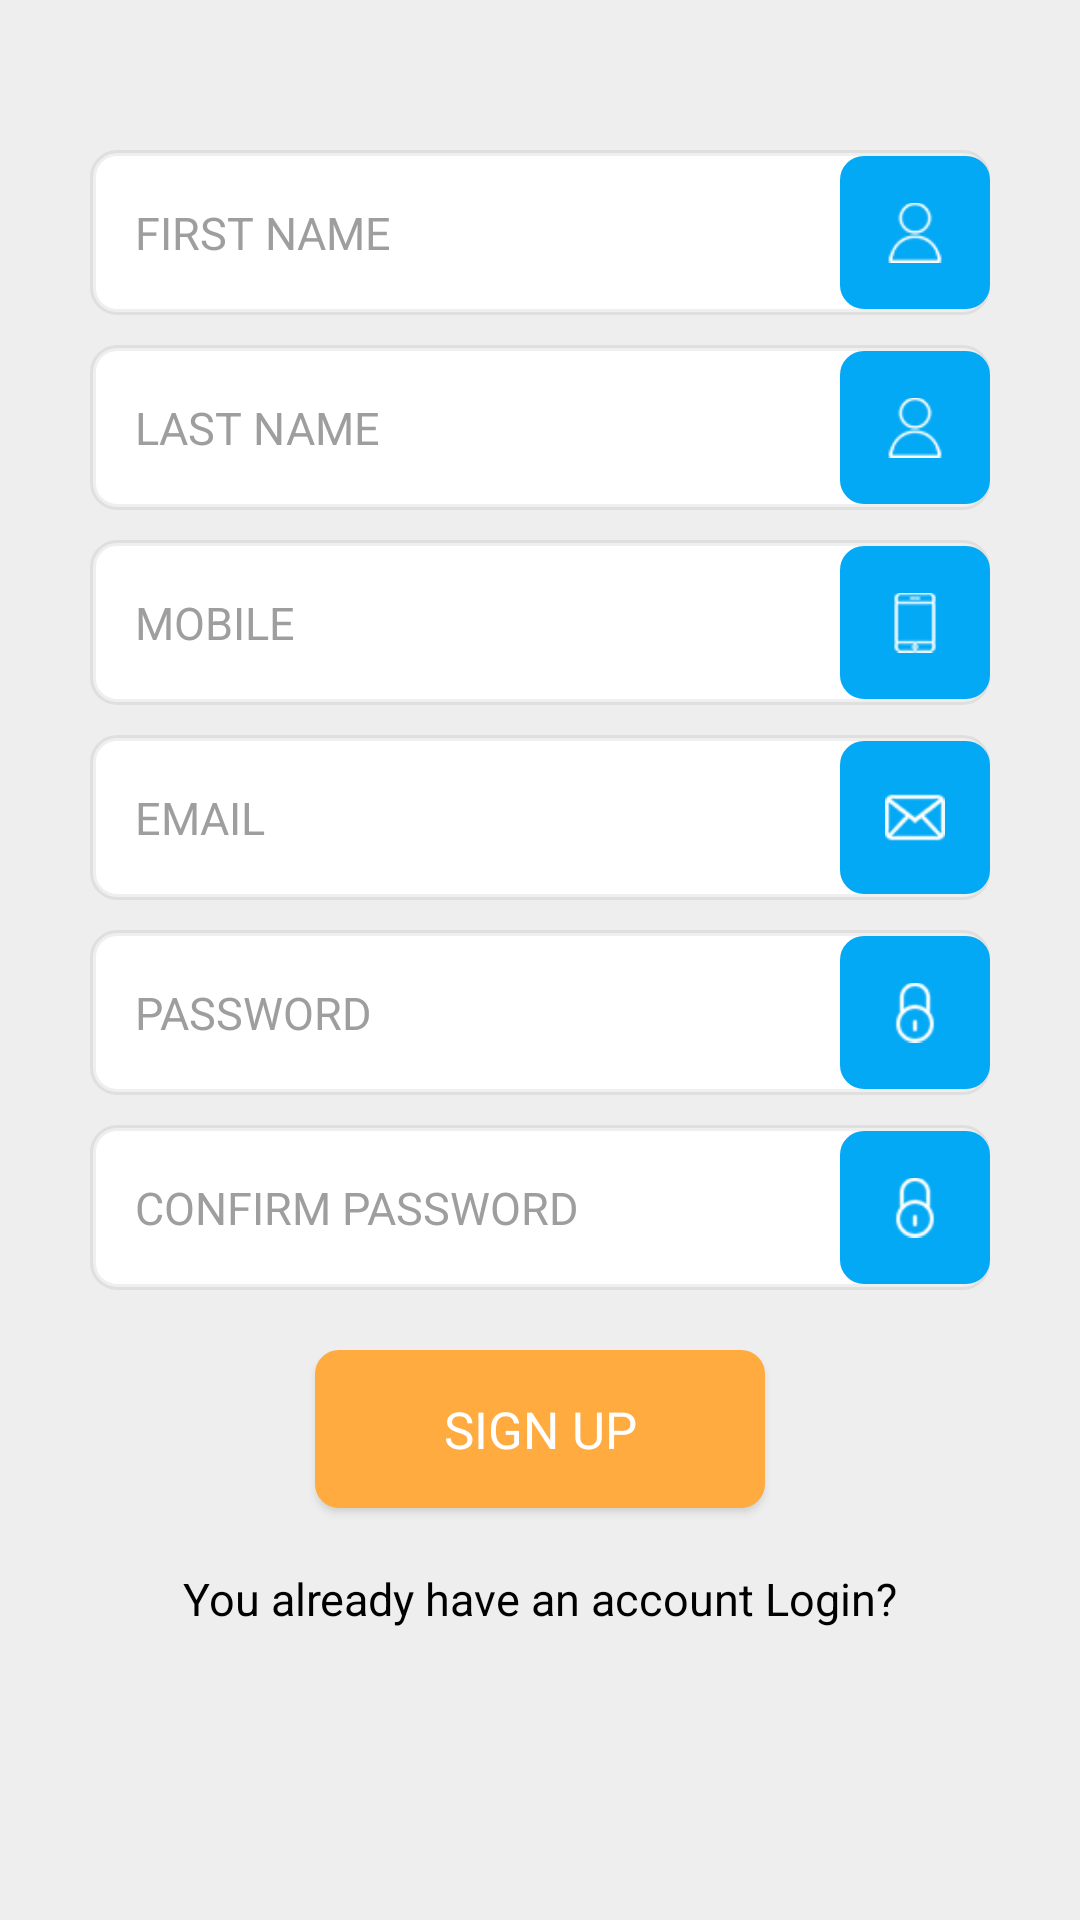

Screen size 1080x1920. Icon name, then its center in pixels as [x,y]:
fname: [915,232], [915,427]
